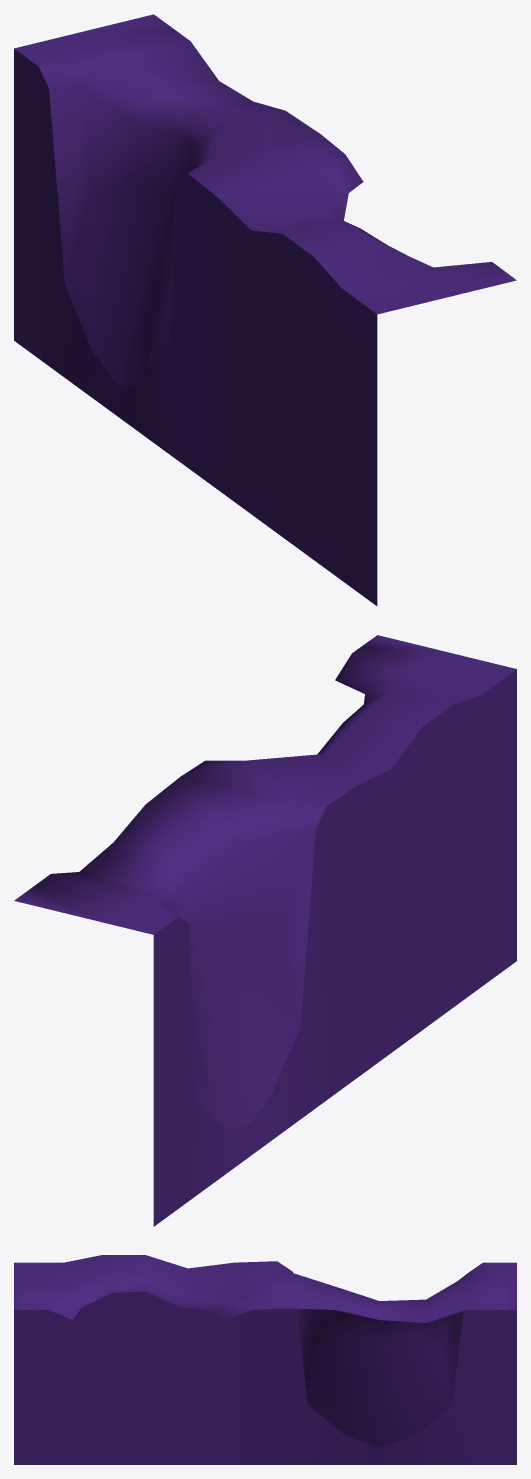
Rendered from f_floor_04.fbx.
3 renders of one model, top to bottom at view 1: azimuth 30°, elevation 25°; view 2: azimuth 150°, elevation 25°; view 3: azimuth 270°, elevation 25°, orthographic. The views are drawn at different scales.
Parts seen in each view (by area): view 1: f_floor_006; view 2: f_floor_006; view 3: f_floor_006.
Boxes of the visible parts, left/top/right/bottom form: f_floor_006: left=14, top=14, right=516, bottom=605; f_floor_006: left=14, top=635, right=516, bottom=1226; f_floor_006: left=14, top=1255, right=516, bottom=1464.
Bounding box in the file's own units: 1001 × 2073 × 4500.
